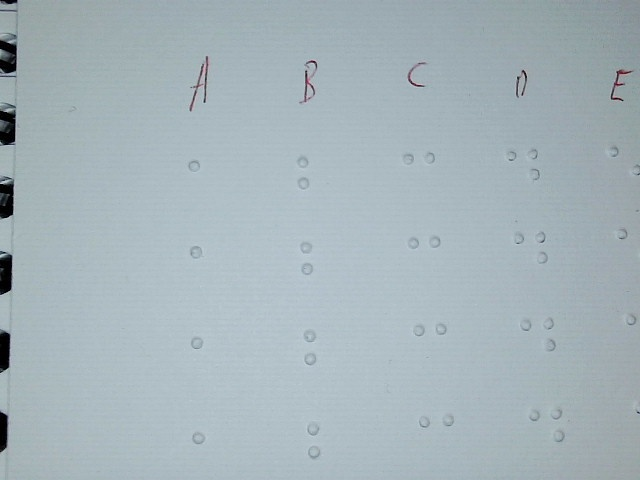A: (180, 151, 231, 215), (181, 238, 232, 302), (181, 327, 232, 391)
B: (290, 149, 338, 218), (291, 234, 339, 303), (295, 321, 343, 390)
C: (395, 143, 443, 215), (401, 228, 449, 300), (406, 314, 454, 386)
